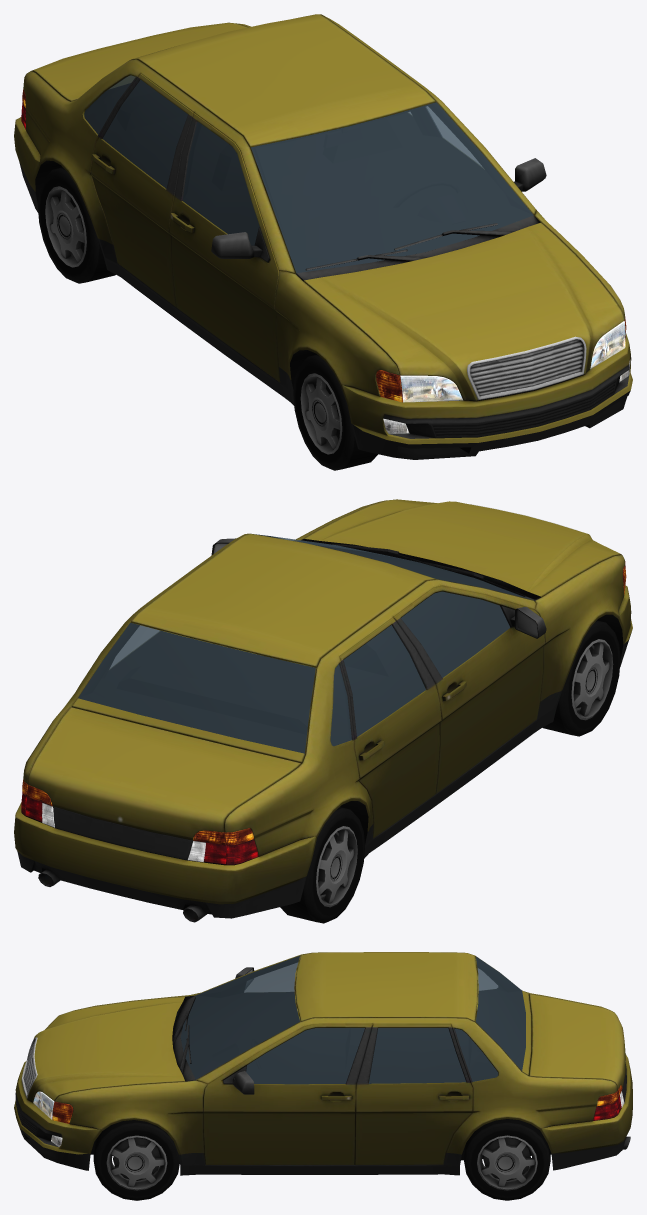
Rendered from road-sedan.glb.
3 renders of one model, top to bottom at view 1: azimuth 30°, elevation 25°; view 2: azimuth 150°, elevation 25°; view 3: azimuth 270°, elevation 25°, orthographic. The views are drawn at different scales.
Parts seen in each view (by area): view 1: Body, Wheel_FR, Wheel_RR; view 2: Body, Wheel_RR, Wheel_FR; view 3: Body, Wheel_RL, Wheel_FL.
Boxes of the visible parts, left/top/right/bottom form: Body: left=14, top=14, right=632, bottom=459; Wheel_FR: left=293, top=354, right=377, bottom=470; Wheel_RR: left=38, top=167, right=115, bottom=283; Body: left=14, top=499, right=632, bottom=922; Wheel_RR: left=280, top=807, right=364, bottom=923; Wheel_FR: left=543, top=620, right=620, bottom=736; Body: left=14, top=952, right=632, bottom=1175; Wheel_RL: left=464, top=1119, right=550, bottom=1200; Wheel_FL: left=93, top=1120, right=179, bottom=1200.
Size of the model in its own units: 2.05 by 1.42 by 4.6.
5 materials, 4 textured.
